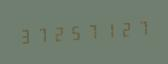five: (68, 21, 84, 43)
one: (102, 18, 118, 41)
seven: (34, 23, 50, 46), (85, 19, 101, 42), (136, 16, 152, 39)
three: (17, 24, 33, 47)
two: (51, 22, 67, 45), (119, 17, 135, 40)
